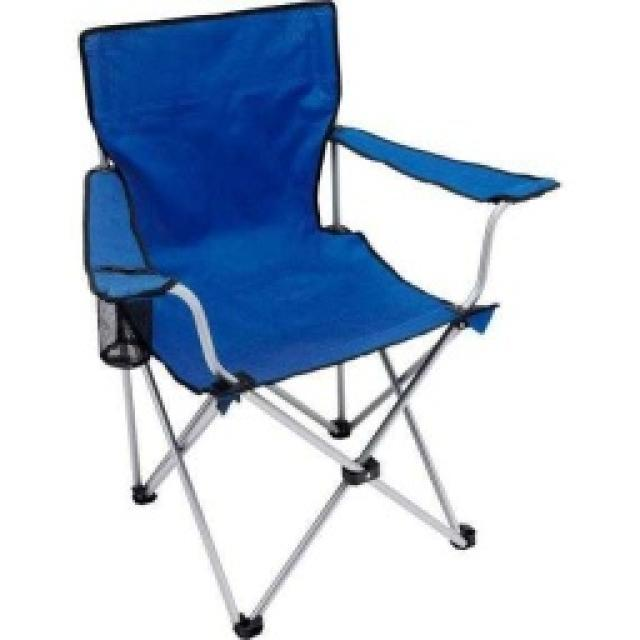sandalye: (75, 0, 560, 638)
